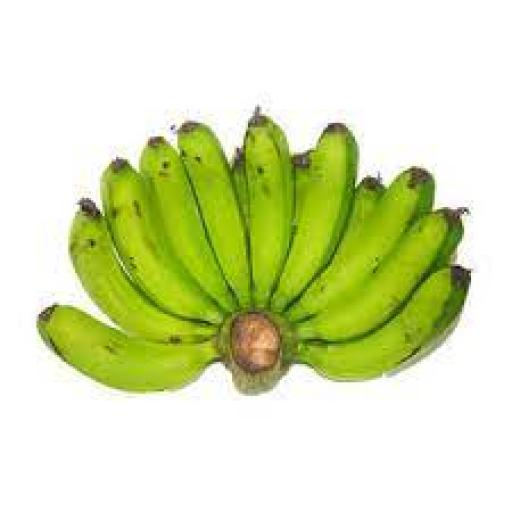banana: (287, 169, 434, 320), (296, 210, 461, 341), (69, 198, 216, 343), (296, 267, 471, 380), (103, 160, 223, 323), (139, 137, 236, 311), (271, 123, 357, 311), (39, 305, 218, 391), (178, 121, 250, 307), (244, 112, 293, 307), (255, 107, 295, 225), (337, 176, 384, 250), (233, 148, 250, 225)
